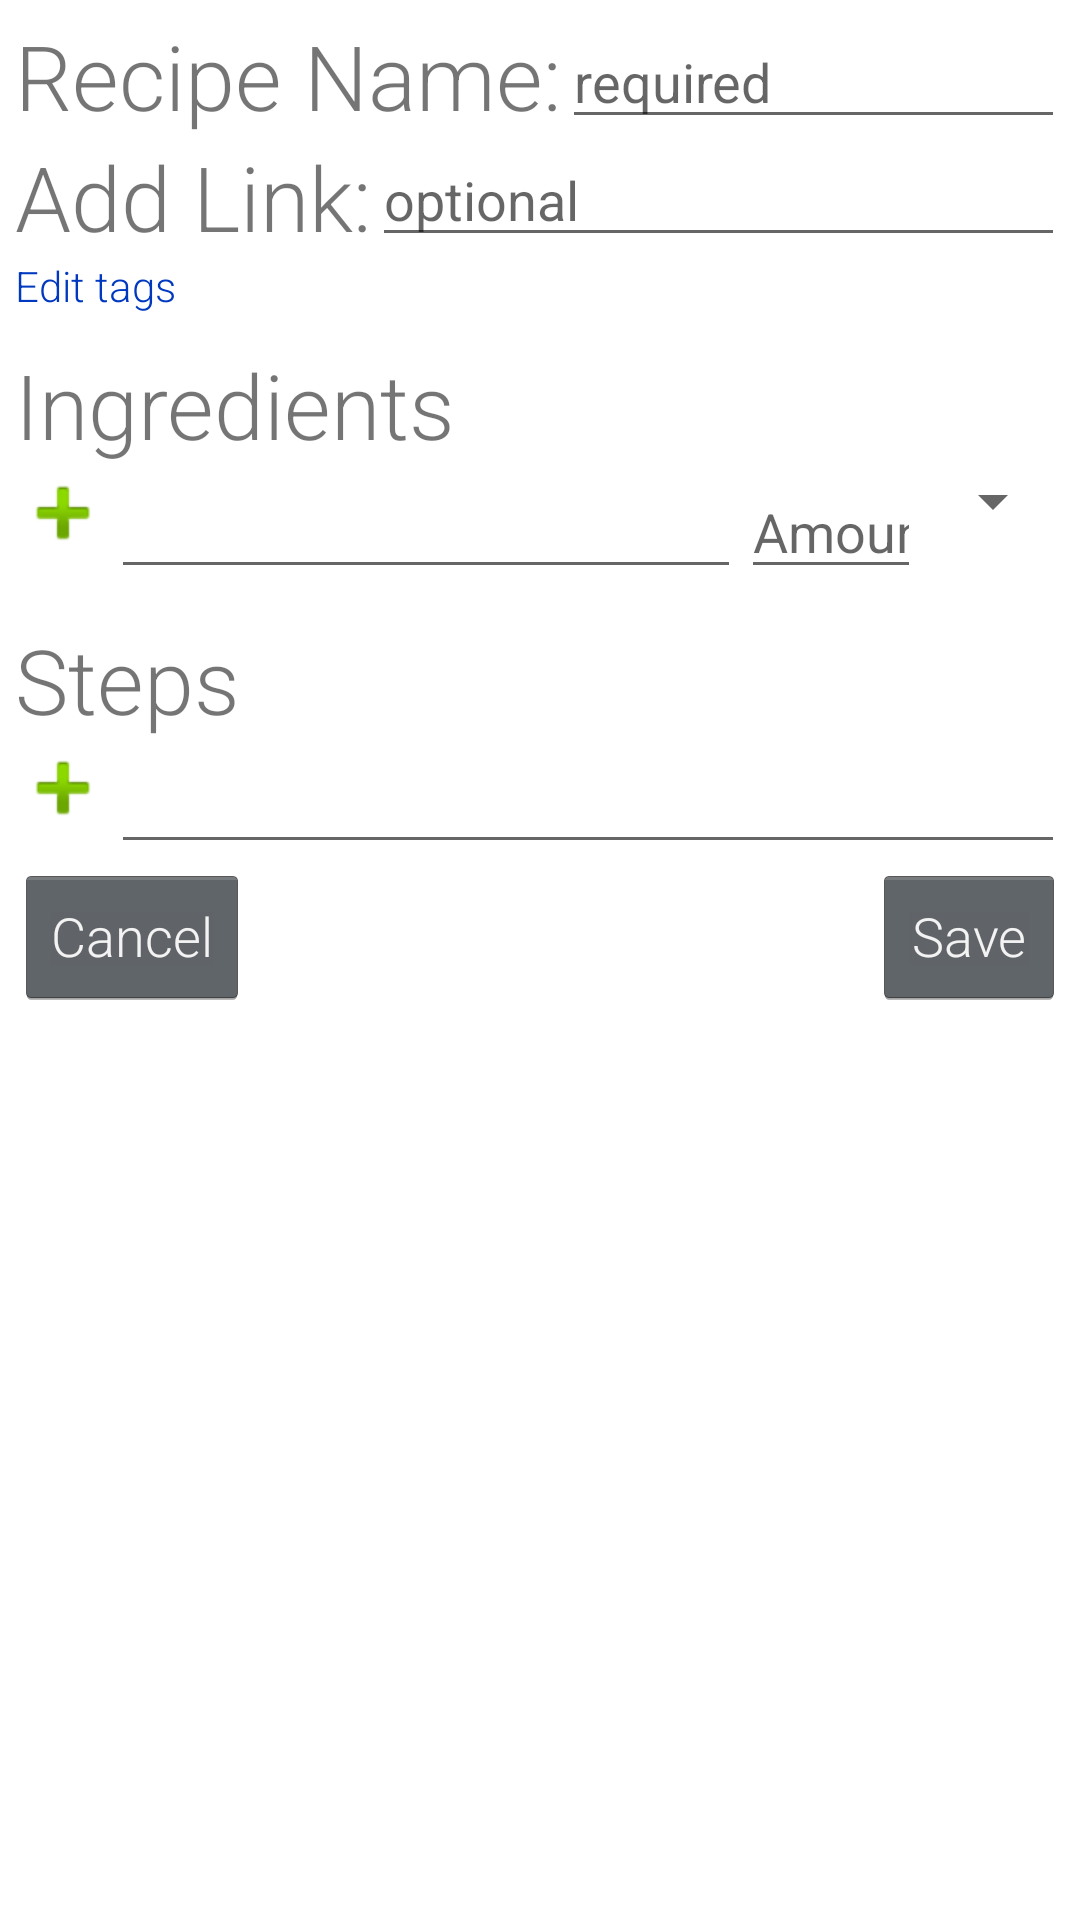

Icons on this 1080px x 1920px Android screen, each with the point to tap as point (x, y):
add: point (63, 513), point (63, 788)
